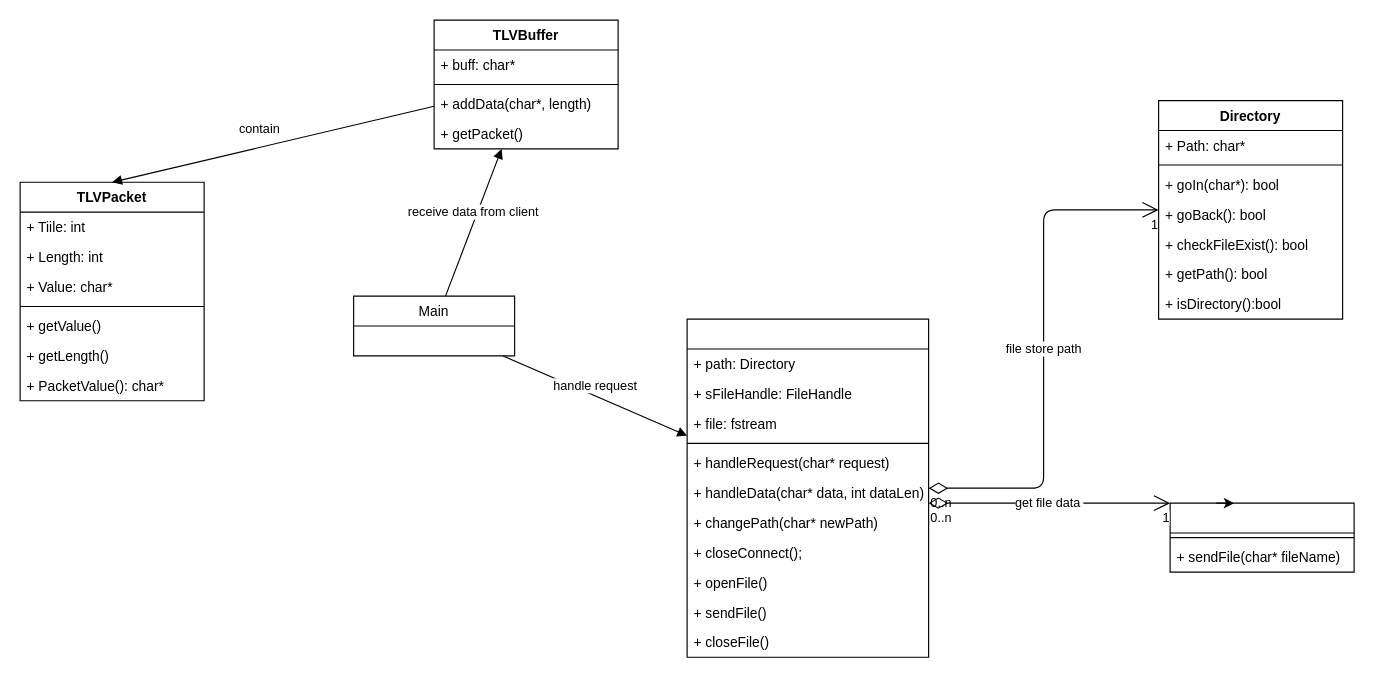
Some shapes in this 1374 by 681 pixel diagram are drawn without their labels. The box of each missing label's shape, as (x1, y1, x2, y2) in pixels:
FileHandle: (1169, 502, 1354, 572)
HandleClientRequest: (686, 318, 929, 657)
